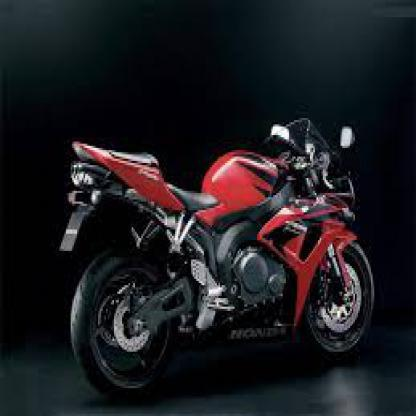Motorcycle: (52, 113, 387, 396)
